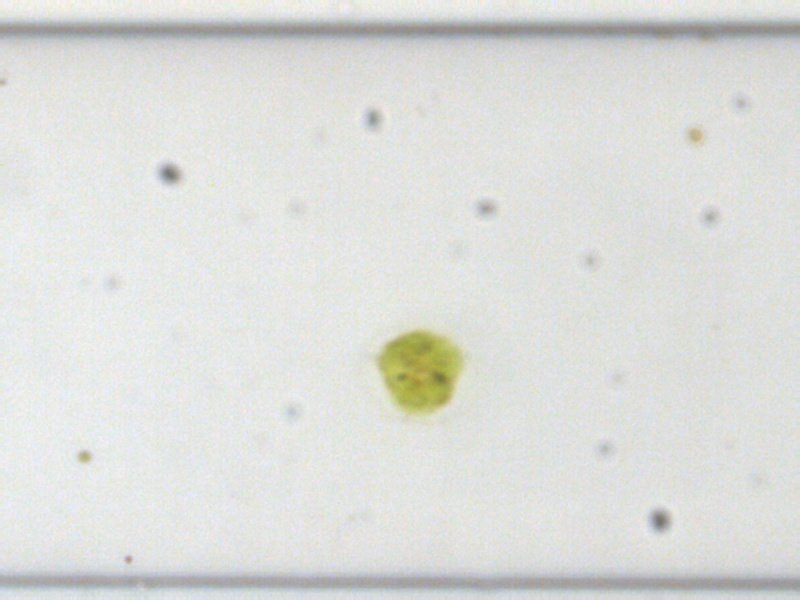Chlorella: (76, 447, 92, 465), (688, 126, 703, 143)
Haematococcus: (372, 331, 466, 419)
